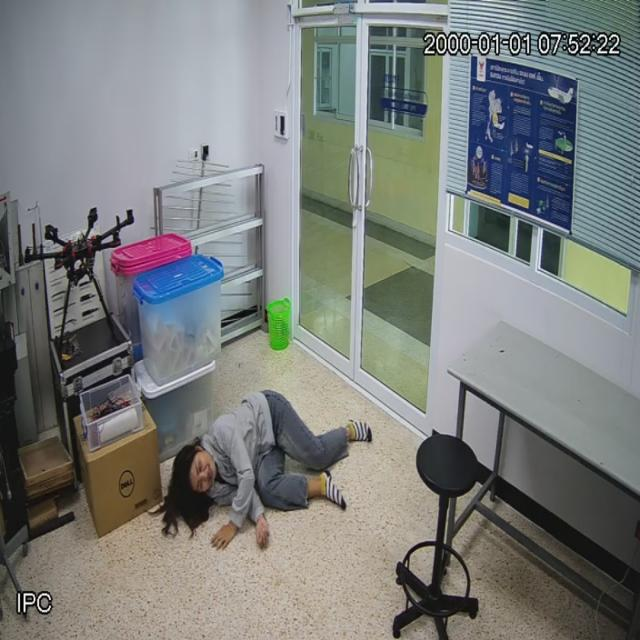fall: (168, 388, 369, 548)
